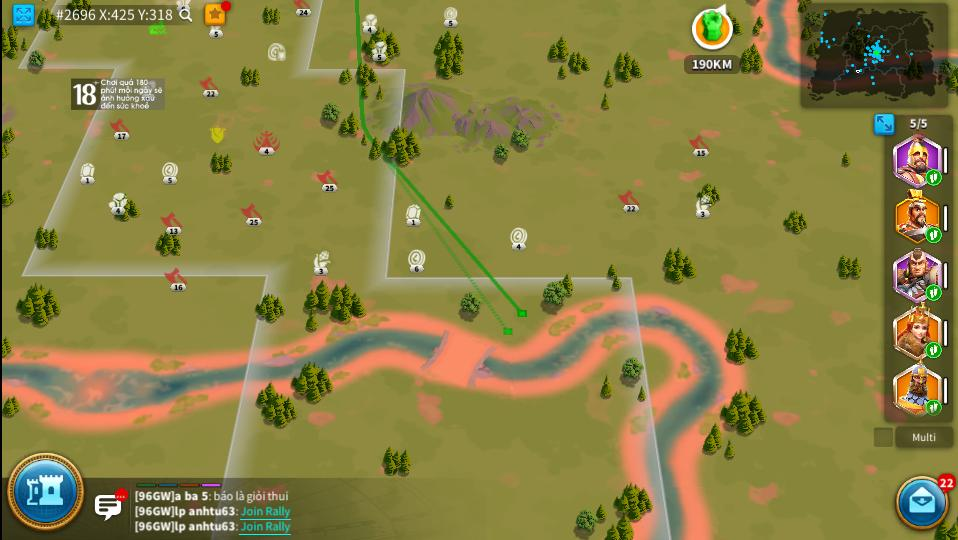gem-z-out: (78, 162, 97, 185), (406, 204, 422, 228)
march_marching: (925, 228, 942, 242), (926, 170, 940, 185), (927, 400, 941, 415), (926, 285, 940, 299), (928, 343, 940, 357)
